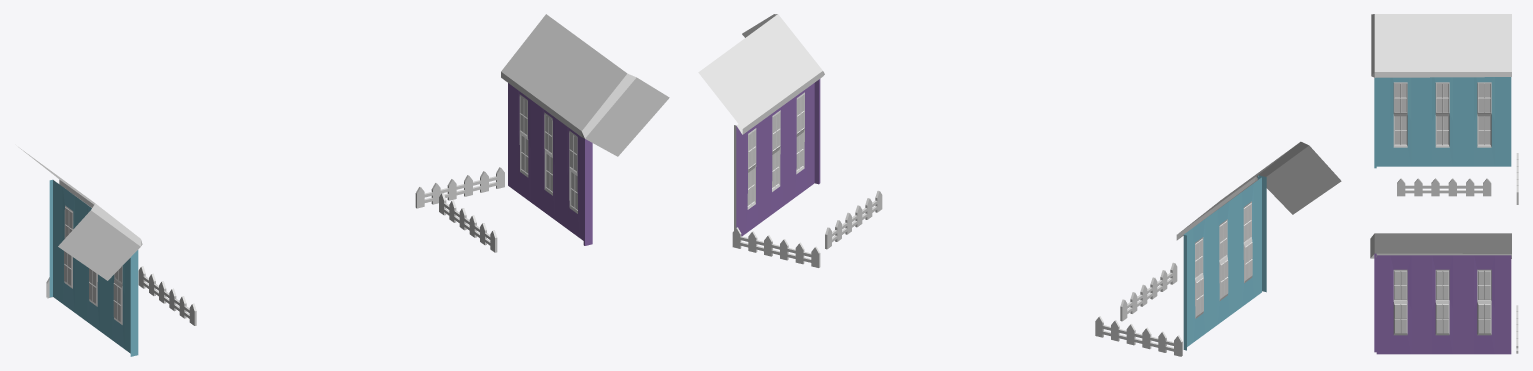
The model's file is Casas3.fbx.
3 renders of one model, left to right at view 1: azimuth 30°, elevation 25°; view 2: azimuth 150°, elevation 25°; view 3: azimuth 270°, elevation 25°, orthographic. The views are drawn at different scales.
Parts seen in each view (by area): view 1: Casa.Trem; view 2: Casa.Trem; view 3: Casa.Trem.
Part boxes in pixels (x1,y1,x2,y2): Casa.Trem: [18, 14, 669, 356]; Casa.Trem: [698, 14, 1341, 356]; Casa.Trem: [1370, 14, 1518, 354].
Bounding box in the file's own units: 1588 × 411 × 396.
